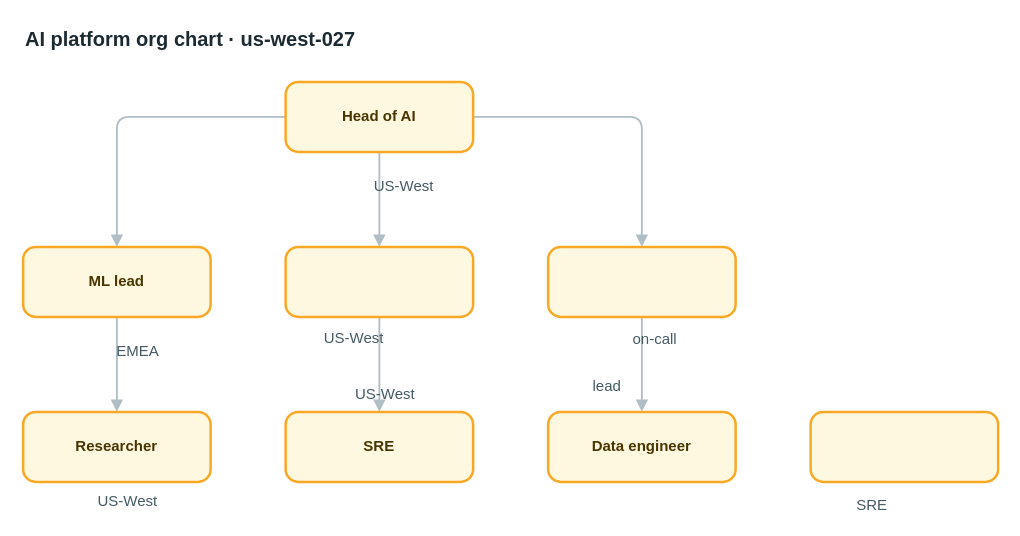
This 1020x536 diagram has some shape labels left out. The shapes that lost their labels are listed below. From the top down, each one's box as (x1, y1, x2, y2) in pixels, then its label:
(284, 245, 474, 318): Infra lead
(546, 245, 736, 318): Data lead
(809, 410, 999, 482): Designer
